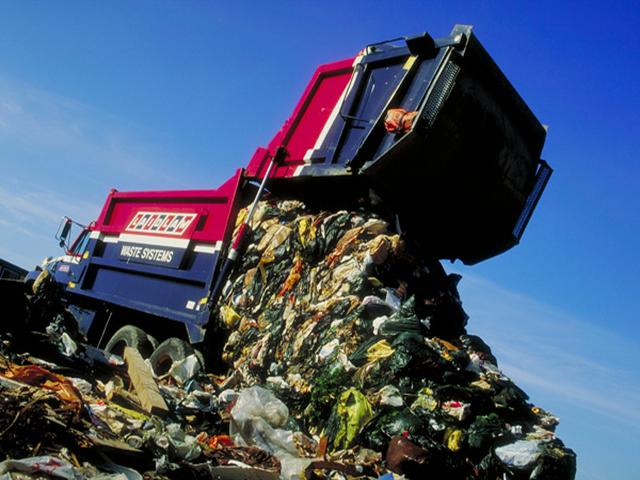garbage: (5, 354, 489, 453), (235, 224, 419, 468)
